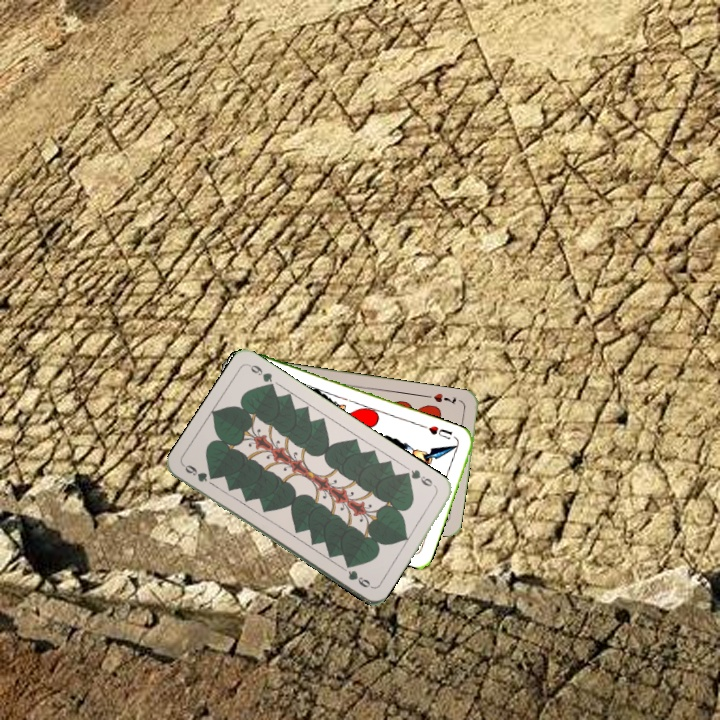G9: (180, 461, 217, 485), (400, 465, 435, 489)
H7: (430, 389, 459, 407)
HU: (424, 422, 455, 442)
